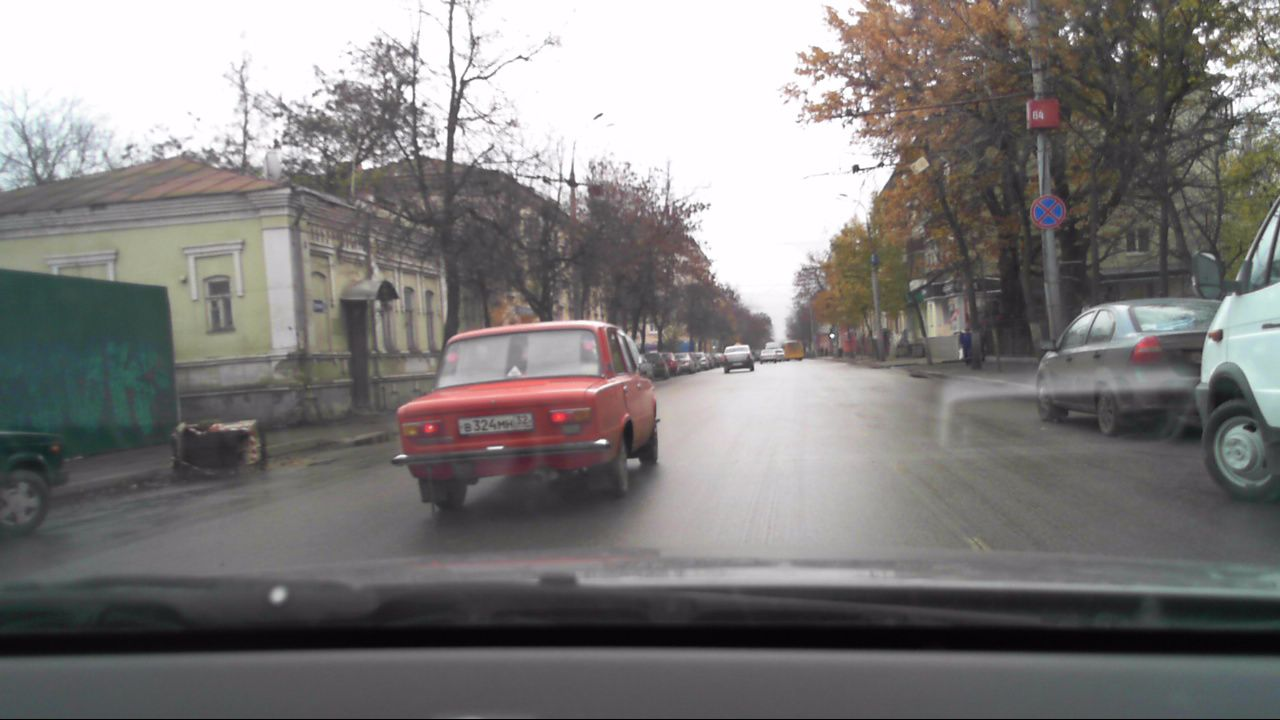No Parking: (1027, 191, 1068, 231)
